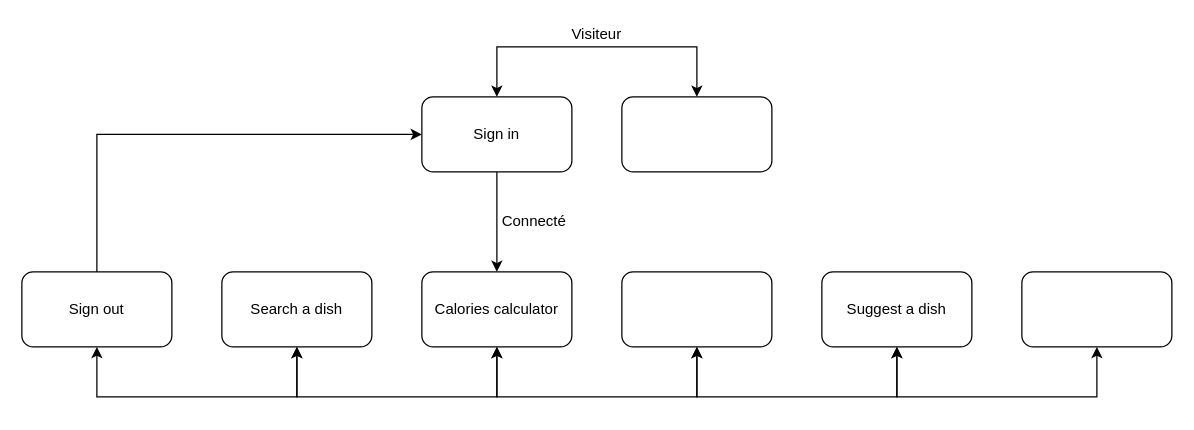
The diagram is 1194 pixels wide and 430 high, and some of its shapes have lost their labels. The centre of each missing label's shape, as x and y in pixels:
"Modify password (pop-up window)" belongs at (1096,309).
"My history" belongs at (696,309).
"Sign up" belongs at (696,134).
